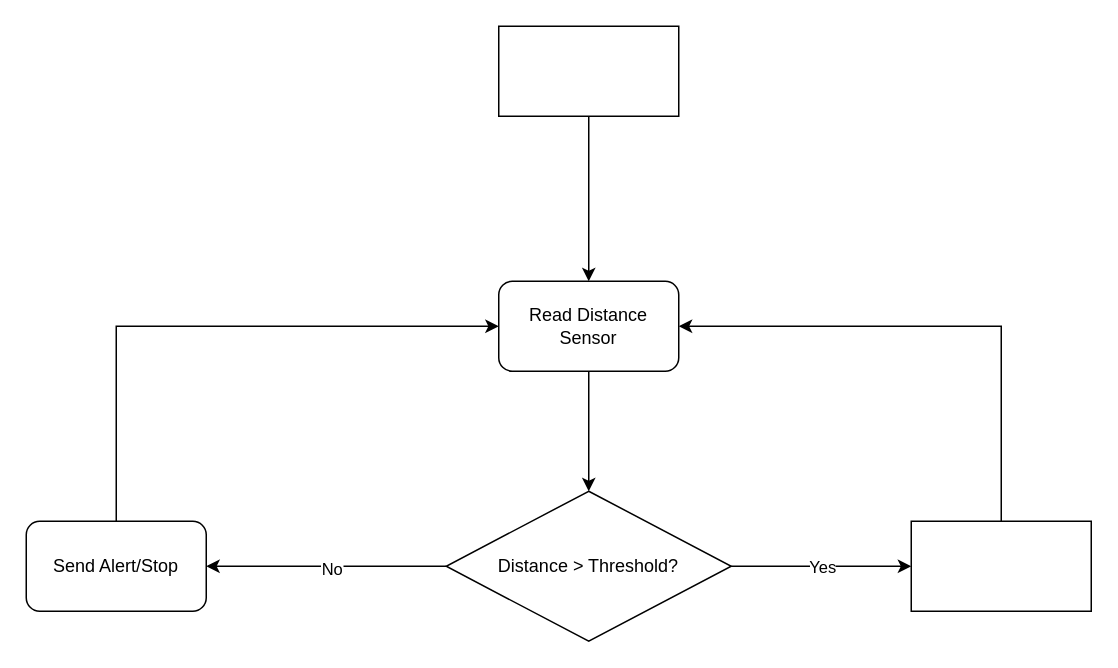
The diagram is 1118 pixels wide and 668 high, and some of its shapes have lost their labels. The box of each missing label's shape, as (x1, y1, x2, y2) in pixels:
MOVEMENT REQUEST: (497, 25, 679, 116)
Proceed: (910, 520, 1091, 611)
